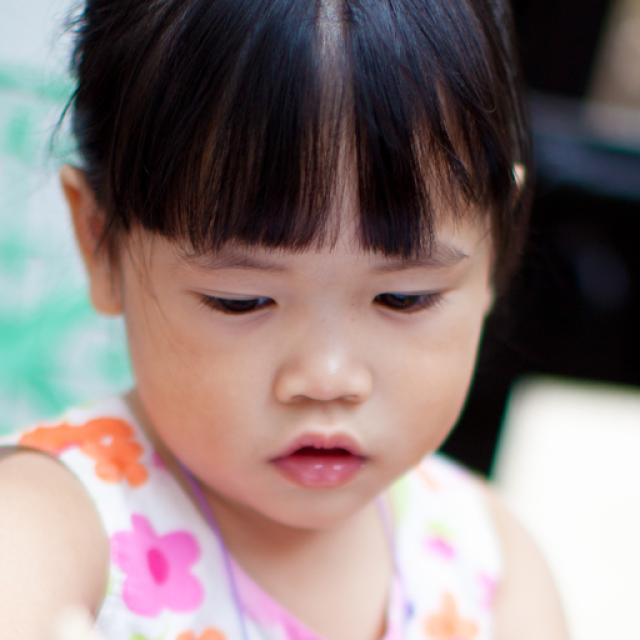sad: (130, 148, 491, 530)
